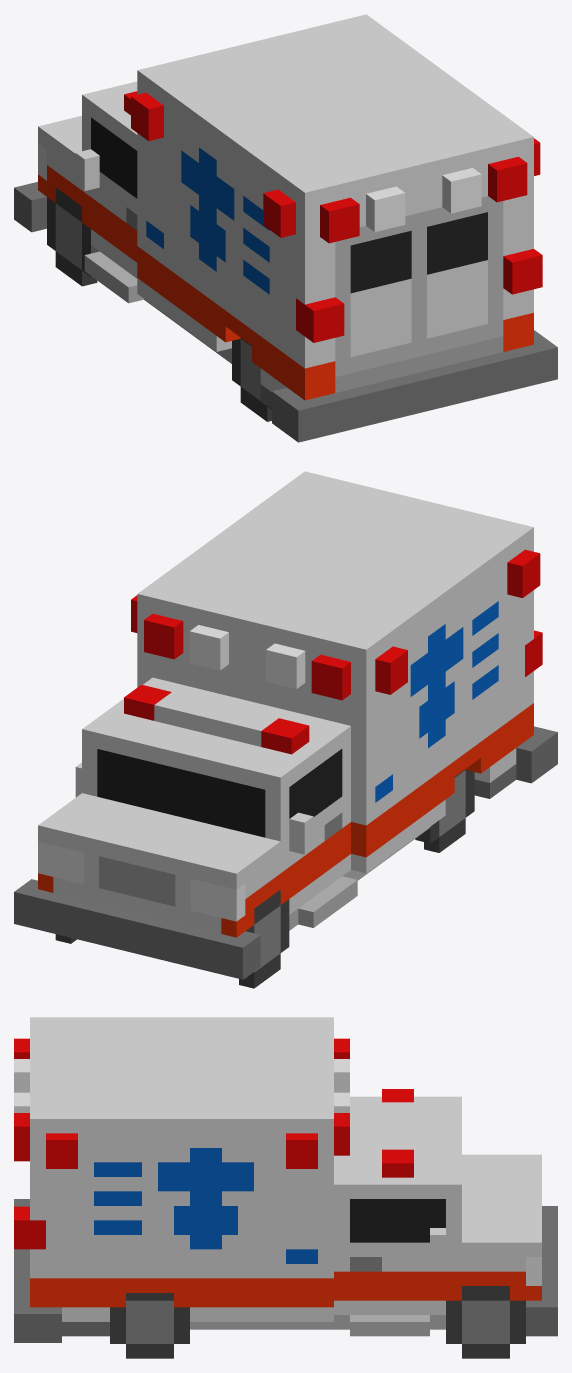
The model's file is veh_ambulance.obj.
3 renders of one model, top to bottom at view 1: azimuth 30°, elevation 25°; view 2: azimuth 150°, elevation 25°; view 3: azimuth 270°, elevation 25°, orthographic. The views are drawn at different scales.
Size of the model in its own units: 1.7 by 1.7 by 3.4.
Materials: 1 (1 with a texture image).
